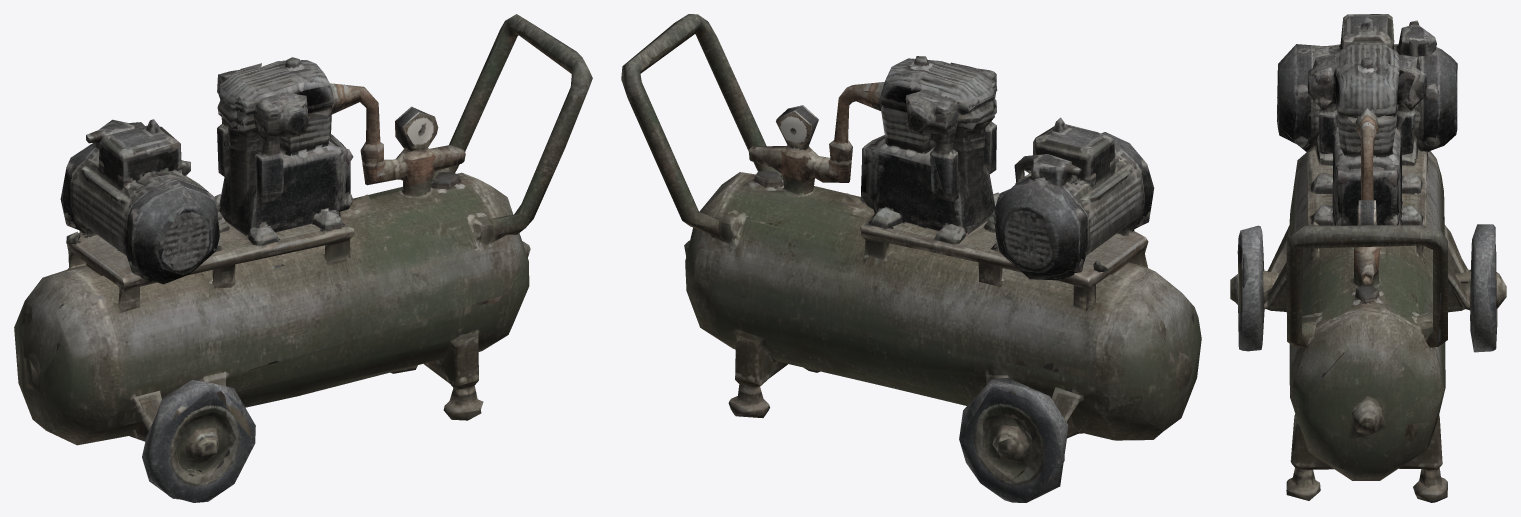
The model's file is depot_air_compressor.glb.
The picture shows the model from 3 angles, left to right: view 1: azimuth 30°, elevation 25°; view 2: azimuth 150°, elevation 25°; view 3: azimuth 270°, elevation 25°; orthographic projection.
Bounding box in the file's own units: 1.45 × 0.95 × 0.65.
1 material, 1 textured.
